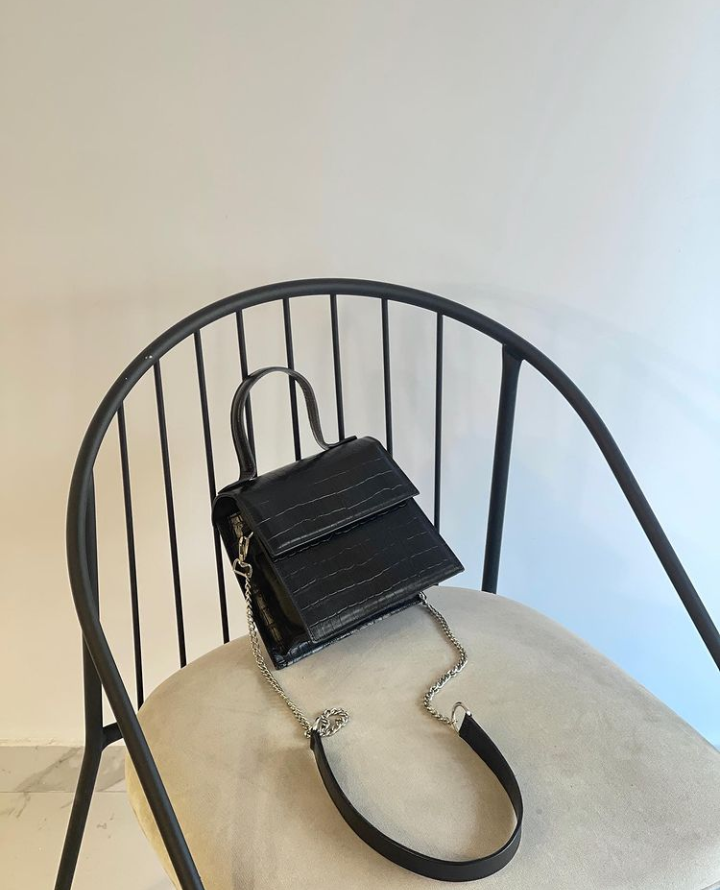cartera: (202, 347, 484, 682)
cuero: (291, 486, 371, 543)
